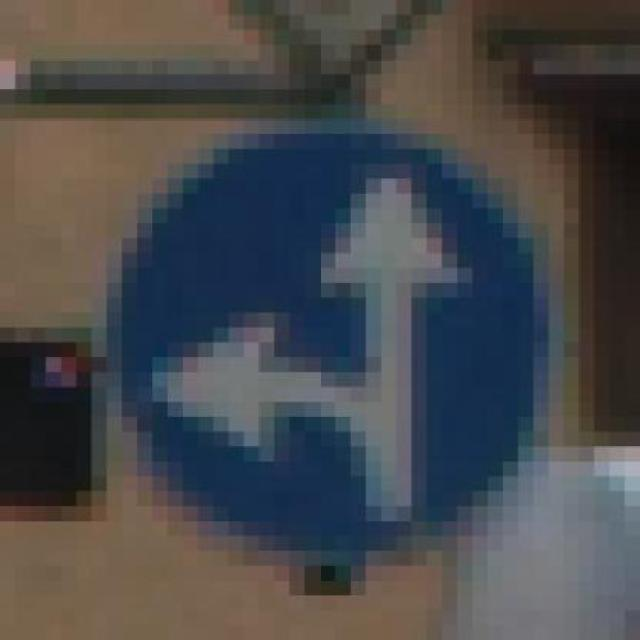Go straight or turn left: (76, 89, 579, 566)
